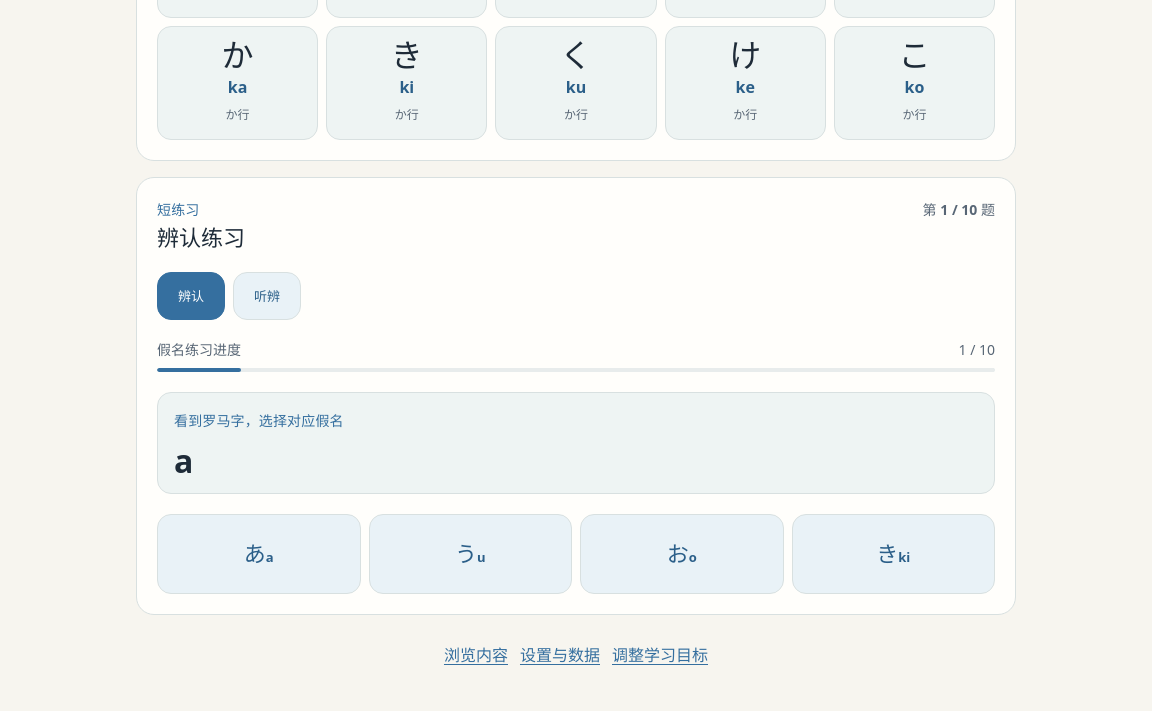
Test: KanaPracticePage › shows the first ten hiragana and gives recognition feedback
(page scrolled)
Click the button "う" at (470, 554), box [368,514,572,594]
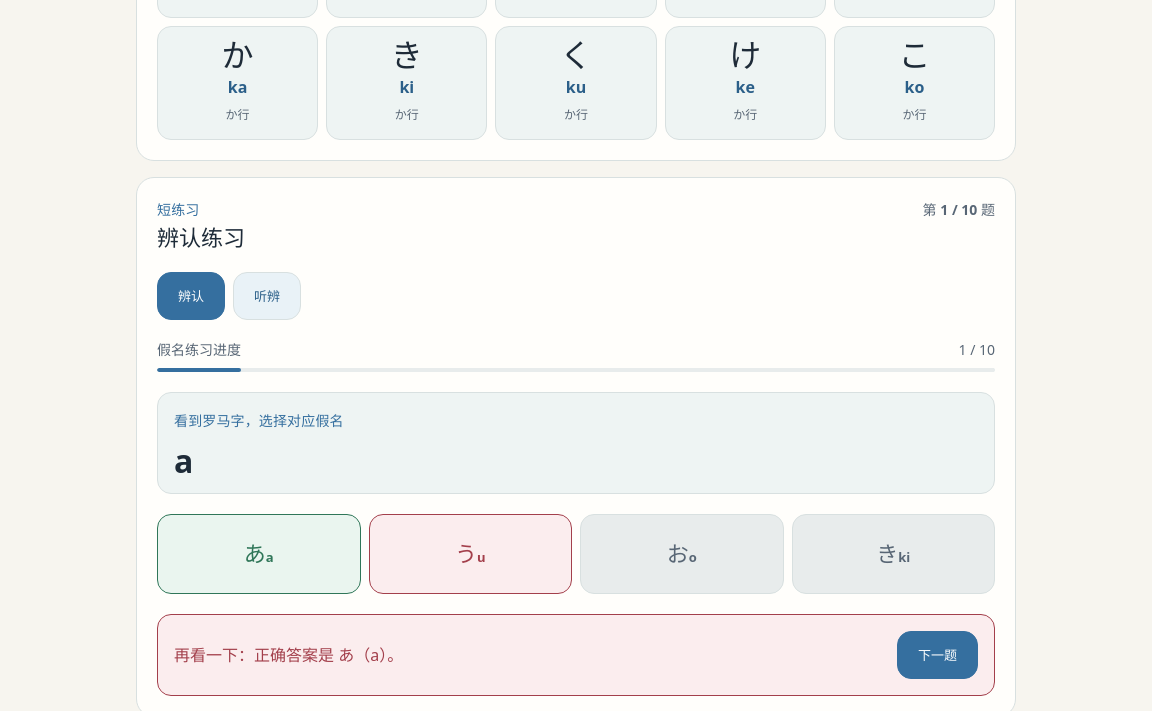
Result: the text "再看一下：正确答案是 あ（a）。" is shown at [174,643,403,667]
Click the button "下一题" at (938, 655), box [897,631,978,679]
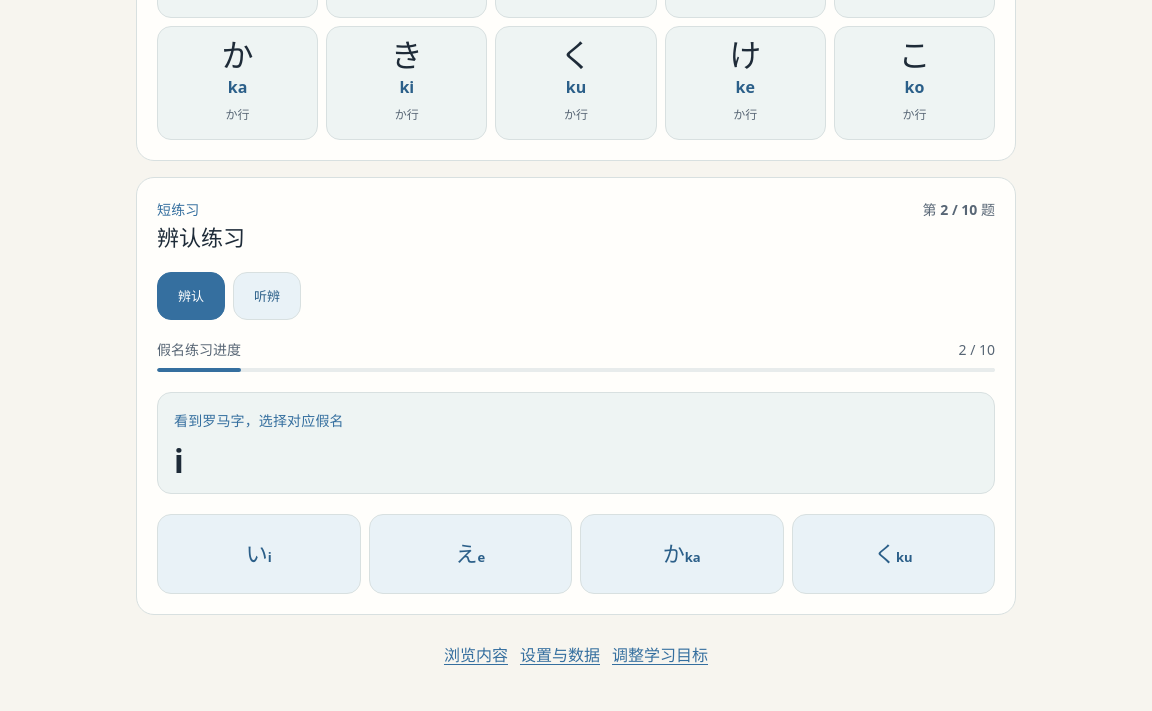
Result: the text "第 2 / 10 题" is shown at [923,198,995,222]
